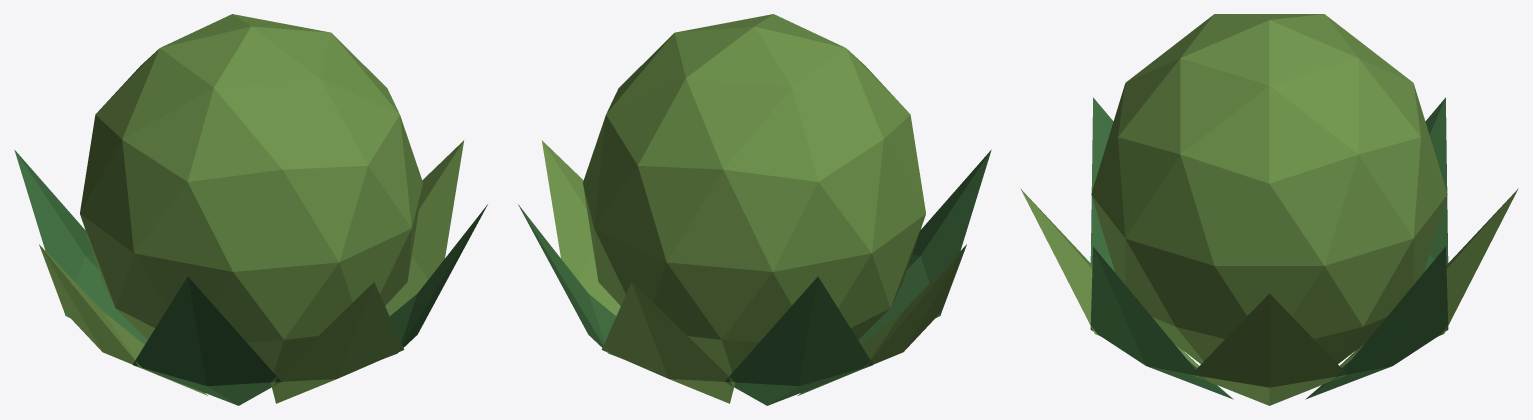
File: leafy_crop.glb
3 renders of one model, left to right at view 1: azimuth 30°, elevation 25°; view 2: azimuth 150°, elevation 25°; view 3: azimuth 270°, elevation 25°, orthographic.
Visible parts, largest first — view 1: LeafyCrop; view 2: LeafyCrop; view 3: LeafyCrop.
Boxes of the visible parts, <box> form: LeafyCrop: <box>14,14,487,405</box>; LeafyCrop: <box>518,14,991,405</box>; LeafyCrop: <box>1020,14,1518,405</box>.
Bounding box in the file's own units: 0.7 × 0.565 × 0.7.
